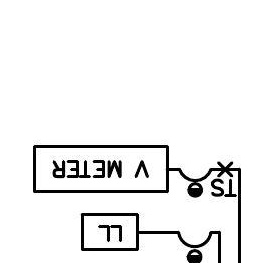LL: (80, 212, 140, 252)
v_m_digital: (32, 144, 170, 194)
